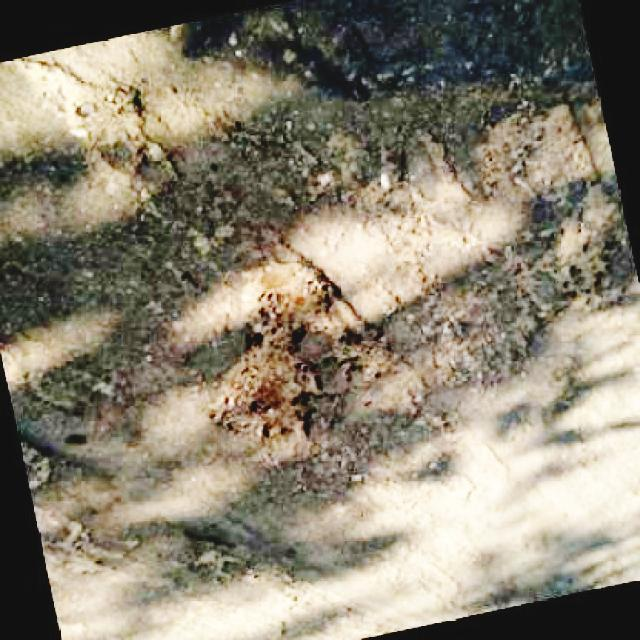pothole: (480, 88, 638, 303), (211, 246, 366, 446), (6, 56, 177, 184), (308, 116, 470, 244)
